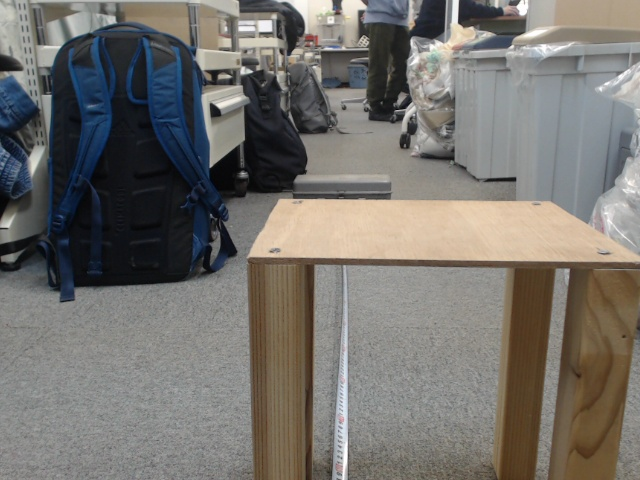desk: (221, 141, 444, 390)
